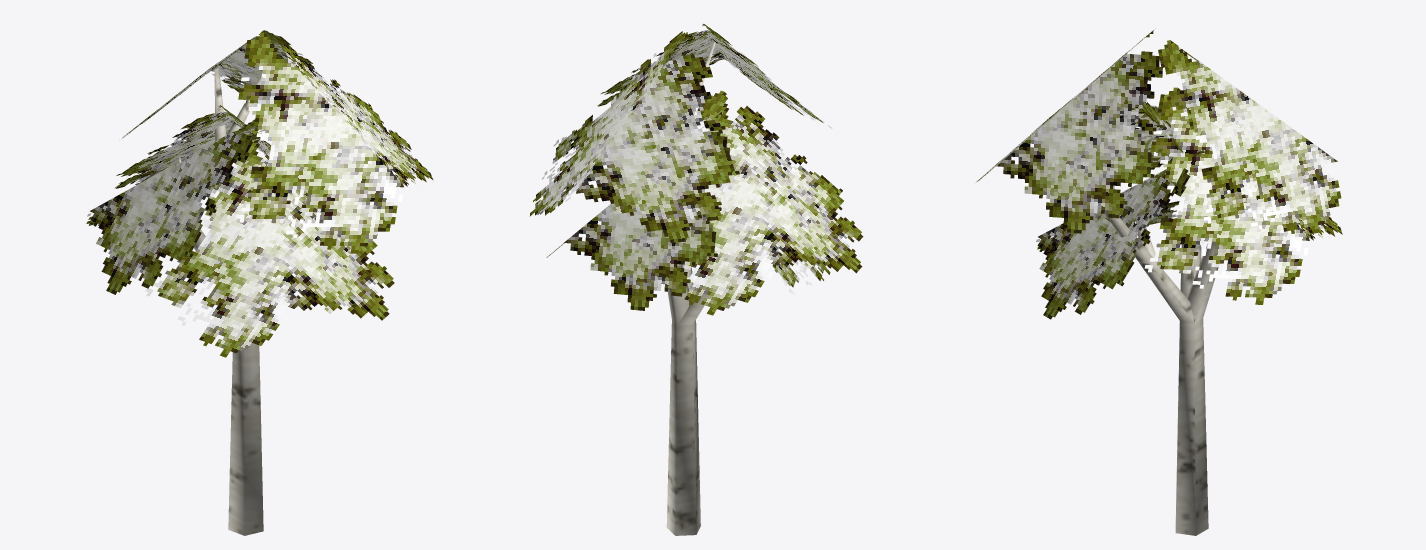
Rendered from birchsno_0.dae.
The picture shows the model from 3 angles, left to right: view 1: azimuth 30°, elevation 25°; view 2: azimuth 150°, elevation 25°; view 3: azimuth 270°, elevation 25°; orthographic projection. The views are drawn at different scales.
Visible parts, largest first — view 1: birchsno_0; view 2: birchsno_0; view 3: birchsno_0.
Part boxes in pixels (x1,y1,x2,y2): birchsno_0: [86, 30, 433, 535]; birchsno_0: [529, 24, 863, 535]; birchsno_0: [976, 30, 1342, 535].
Bounding box in the file's own units: 3.26 × 4.22 × 4.91.
2 materials, 2 textured.
